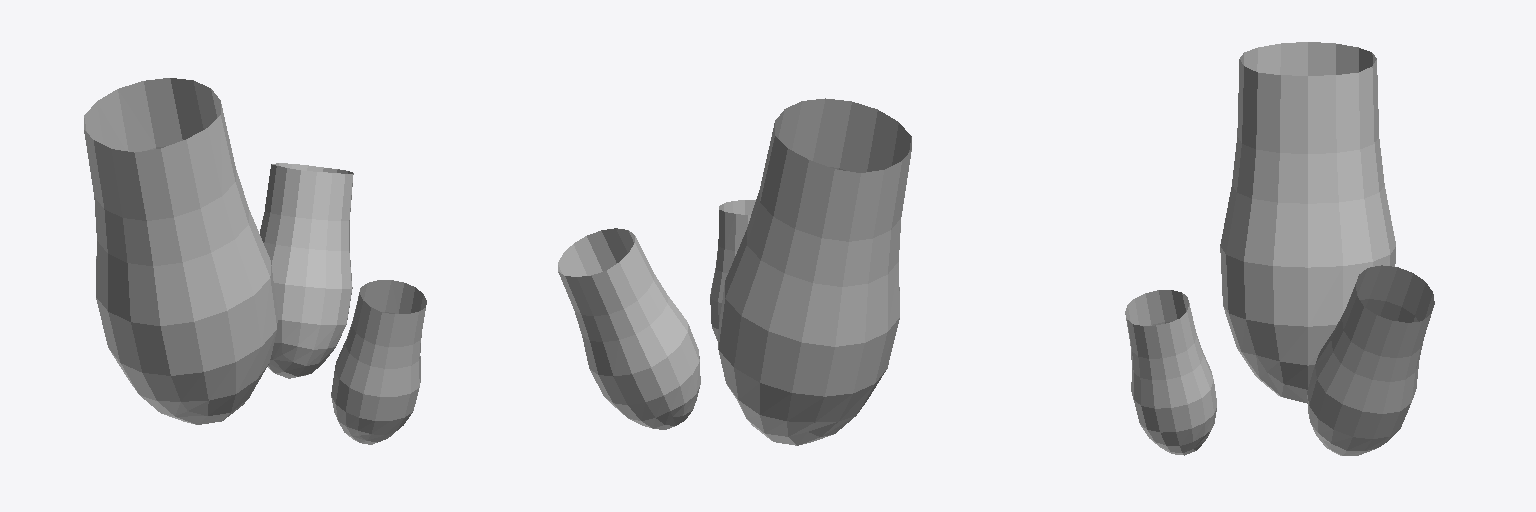
File: bodyMushroom.obj
The picture shows the model from 3 angles: view 1: azimuth 30°, elevation 25°; view 2: azimuth 150°, elevation 25°; view 3: azimuth 270°, elevation 25°; orthographic projection.
Parts seen in each view (by area): view 1: Object_2; view 2: Object_2; view 3: Object_2.
Boxes of the visible parts, box(x1,y1,x2,y2) form: Object_2: box(84, 78, 426, 444); Object_2: box(558, 98, 911, 445); Object_2: box(1125, 42, 1434, 455).
Bounding box in the file's own units: 0.4856 × 0.5162 × 0.4391.